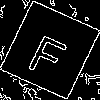F: (25, 25, 73, 80)
